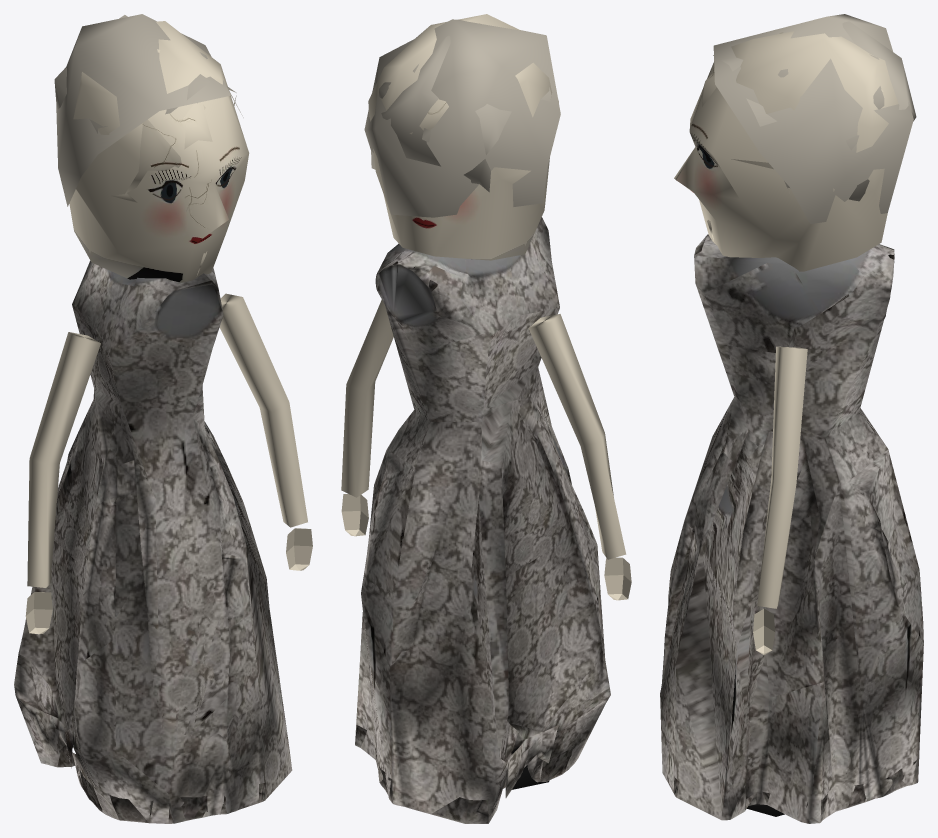
File: doll_low.glb
3 views of the same model, side by side, from view 1: azimuth 30°, elevation 25°; view 2: azimuth 150°, elevation 25°; view 3: azimuth 270°, elevation 25° (orthographic).
Parts seen in each view (by area): view 1: body, head_mesh; view 2: body, head_mesh; view 3: body, head_mesh.
Boxes of the visible parts, <box> form: body: <box>14,260,312,823</box>; head_mesh: <box>54,14,249,282</box>; body: <box>341,217,631,823</box>; head_mesh: <box>364,14,560,260</box>; body: <box>660,234,923,823</box>; head_mesh: <box>674,14,916,271</box>.
Size of the model in its own units: 0.17 by 0.4277 by 0.1331.
2 materials, 2 textured.
